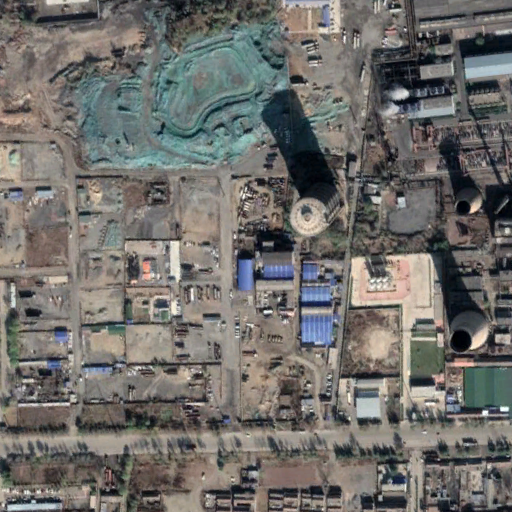cw: (66, 33, 350, 180)
